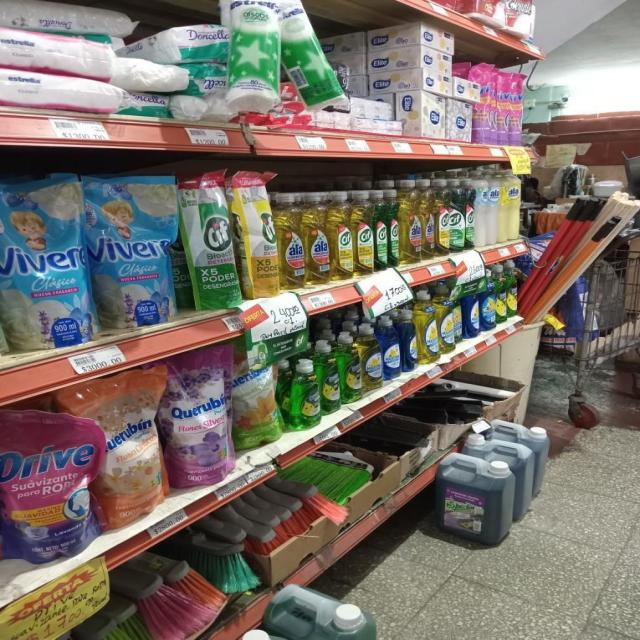ala_conc_amarillo: (279, 193, 304, 290), (304, 191, 329, 286), (401, 179, 421, 264), (421, 178, 435, 260)
ala_crem_amarillo: (506, 168, 522, 243)
cif_conc_bot_amarilla: (330, 190, 352, 282), (353, 190, 373, 276), (436, 178, 450, 256)
cif_conc_botella_verde: (374, 188, 388, 273), (450, 178, 464, 254), (388, 185, 400, 268), (464, 175, 476, 250)
cif_conc_sachet_amarillo: (241, 169, 278, 299)
cif_conc_sachet_verde: (185, 168, 238, 310)
magistral_con_amarillo: (439, 285, 460, 356), (418, 290, 438, 364), (361, 323, 381, 390)
magistral_con_azul: (382, 314, 400, 381), (462, 281, 480, 338), (402, 309, 418, 372), (480, 271, 496, 329)
magistral_con_verde: (292, 361, 321, 426), (337, 334, 363, 402), (316, 341, 340, 411), (491, 265, 507, 322), (506, 261, 520, 316)
